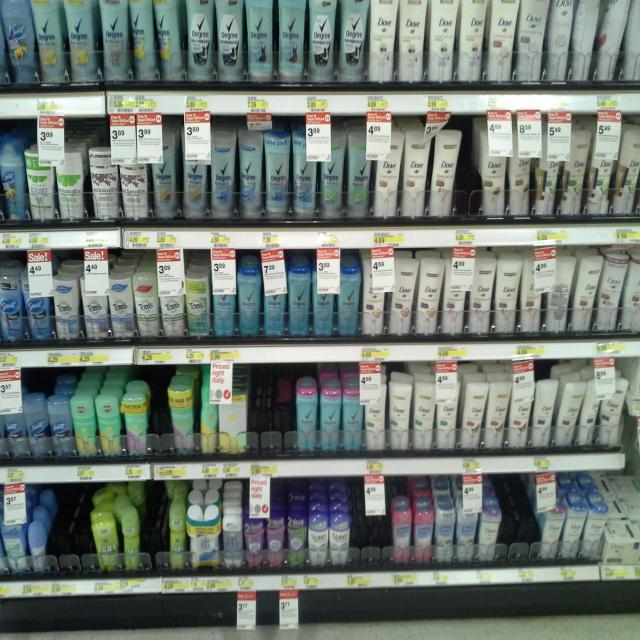void: (252, 366, 296, 452), (59, 483, 90, 566), (142, 496, 168, 570), (502, 491, 531, 556), (459, 149, 479, 213)
